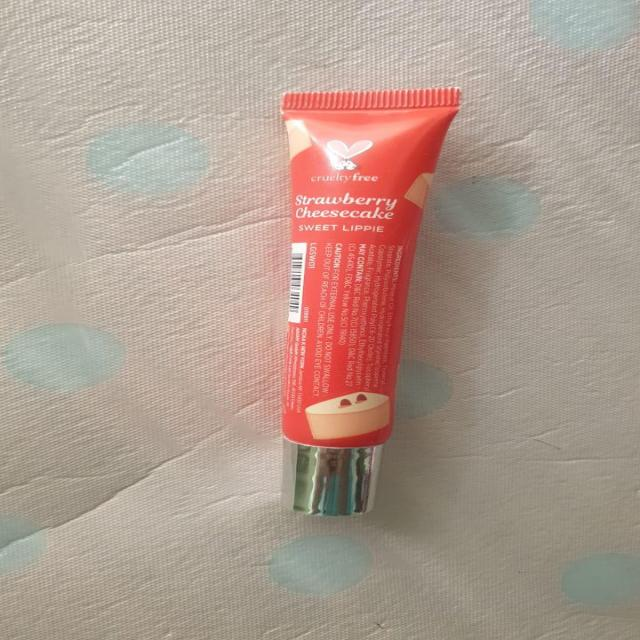Tint: (240, 64, 487, 523)
